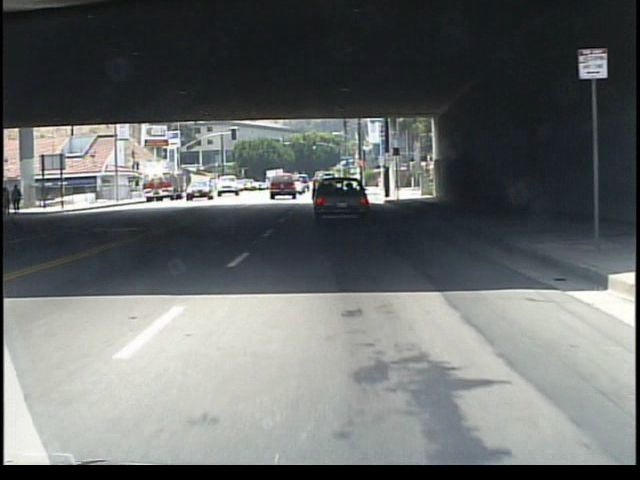person: (14, 185, 26, 216)
